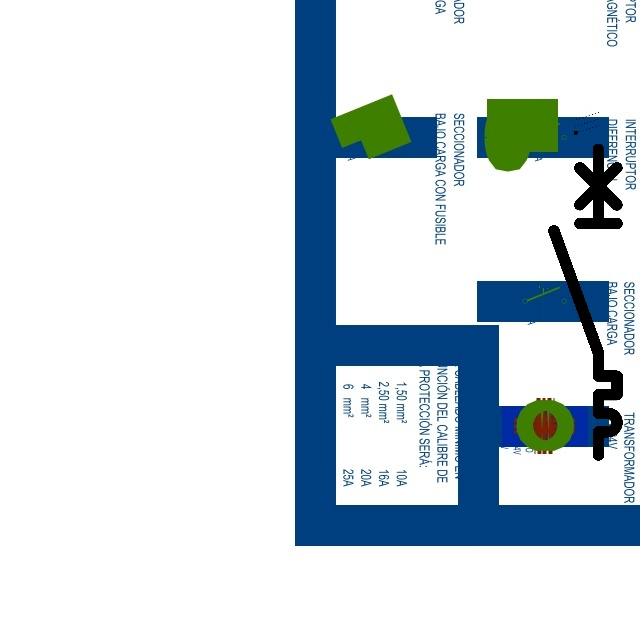interruptor_termomagnetico: (546, 141, 625, 463)
